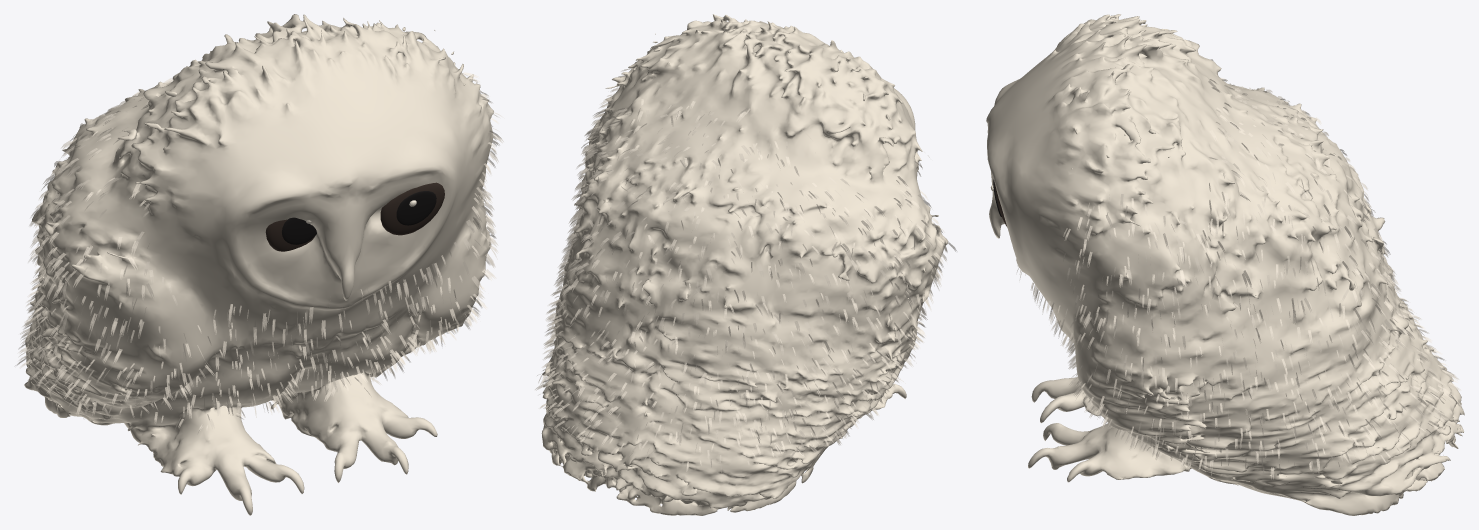
The model's file is run111_juvenile_broadface_34_ART_UNAPPROVED.glb.
3 renders of one model, left to right at view 1: azimuth 30°, elevation 25°; view 2: azimuth 150°, elevation 25°; view 3: azimuth 270°, elevation 25°, orthographic. The views are drawn at different scales.
Parts seen in each view (by area): view 1: actual_neural_juvenile_sculpt_softened_RESEARCH_ONLY, Run110_physically_sampled_native_mesh_down_not_svg, real_socket_registered_dark_open_eye_1, nested_small_pupil_1, nested_small_pupil_-1, real_socket_registered_dark_open_eye_-1; view 2: actual_neural_juvenile_sculpt_softened_RESEARCH_ONLY, Run110_physically_sampled_native_mesh_down_not_svg; view 3: actual_neural_juvenile_sculpt_softened_RESEARCH_ONLY, Run110_physically_sampled_native_mesh_down_not_svg.
Part boxes in pixels (x1,y1,x2,y2): actual_neural_juvenile_sculpt_softened_RESEARCH_ONLY: (24, 14, 493, 515); Run110_physically_sampled_native_mesh_down_not_svg: (15, 72, 503, 432); real_socket_registered_dark_open_eye_1: (380, 182, 444, 235); nested_small_pupil_1: (396, 191, 436, 225); nested_small_pupil_-1: (282, 217, 316, 244); real_socket_registered_dark_open_eye_-1: (265, 219, 314, 251); actual_neural_juvenile_sculpt_softened_RESEARCH_ONLY: (541, 14, 948, 515); Run110_physically_sampled_native_mesh_down_not_svg: (535, 68, 956, 472); actual_neural_juvenile_sculpt_softened_RESEARCH_ONLY: (986, 14, 1464, 515); Run110_physically_sampled_native_mesh_down_not_svg: (1017, 59, 1460, 478).
Size of the model in its own units: 1.77 by 1.76 by 1.78.
